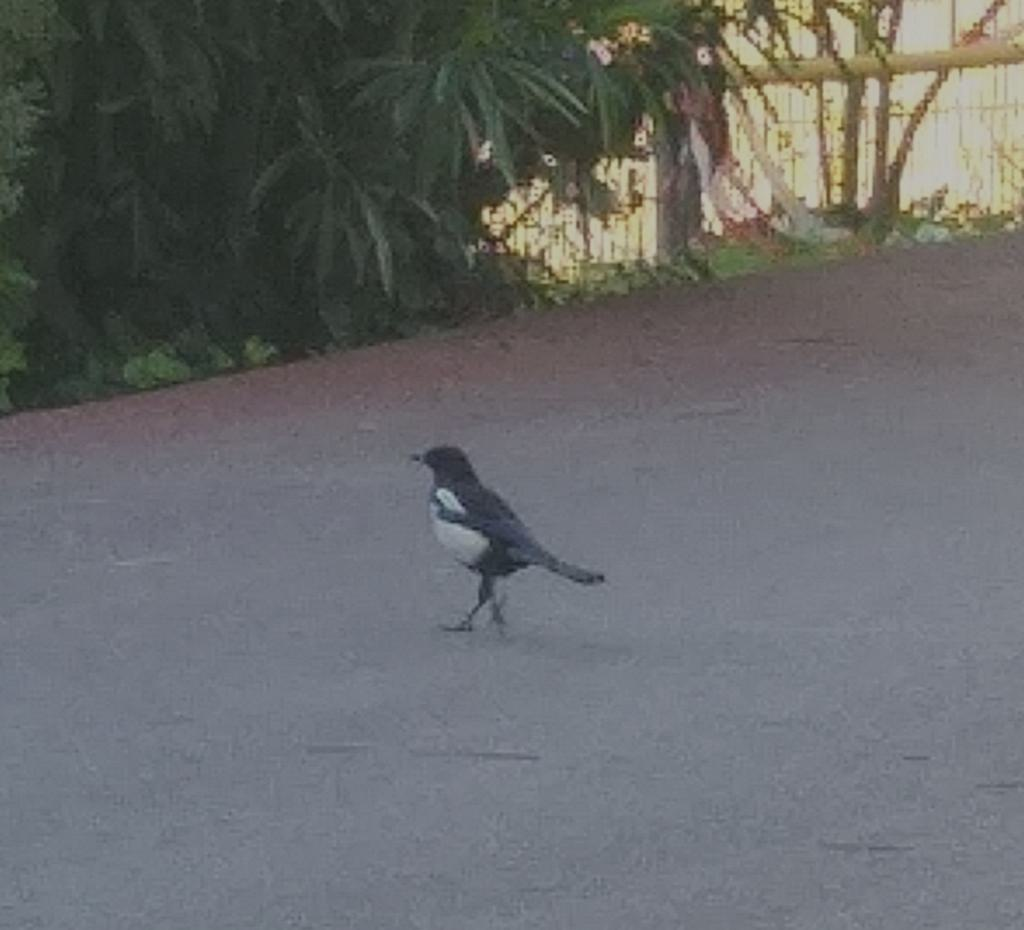PicaPica: (410, 444, 606, 631)
